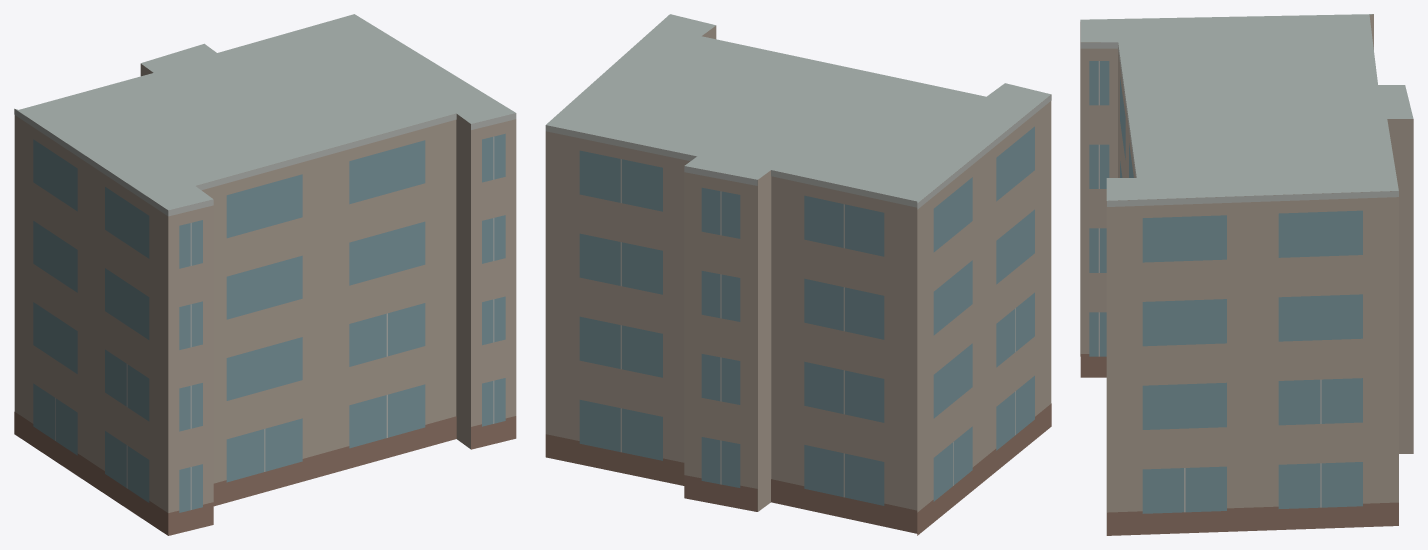
The model's file is survey-upis-32937873.glb.
3 renders of one model, left to right at view 1: azimuth 30°, elevation 25°; view 2: azimuth 150°, elevation 25°; view 3: azimuth 270°, elevation 25°, orthographic. The views are drawn at different scales.
Parts seen in each view (by area): view 1: survey-upis-32937873.tmp; view 2: survey-upis-32937873.tmp; view 3: survey-upis-32937873.tmp.
Boxes of the visible parts, box(x1,y1,x2,y2) form: survey-upis-32937873.tmp: box(14, 14, 516, 535); survey-upis-32937873.tmp: box(545, 14, 1051, 535); survey-upis-32937873.tmp: box(1080, 14, 1413, 535).
Size of the model in its own units: 15.62 by 13.05 by 11.77.
